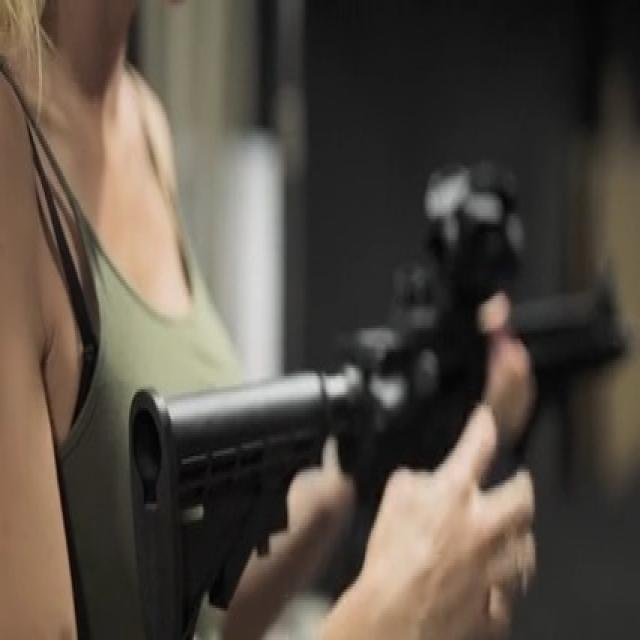Gun_Holder: (110, 121, 640, 640)
